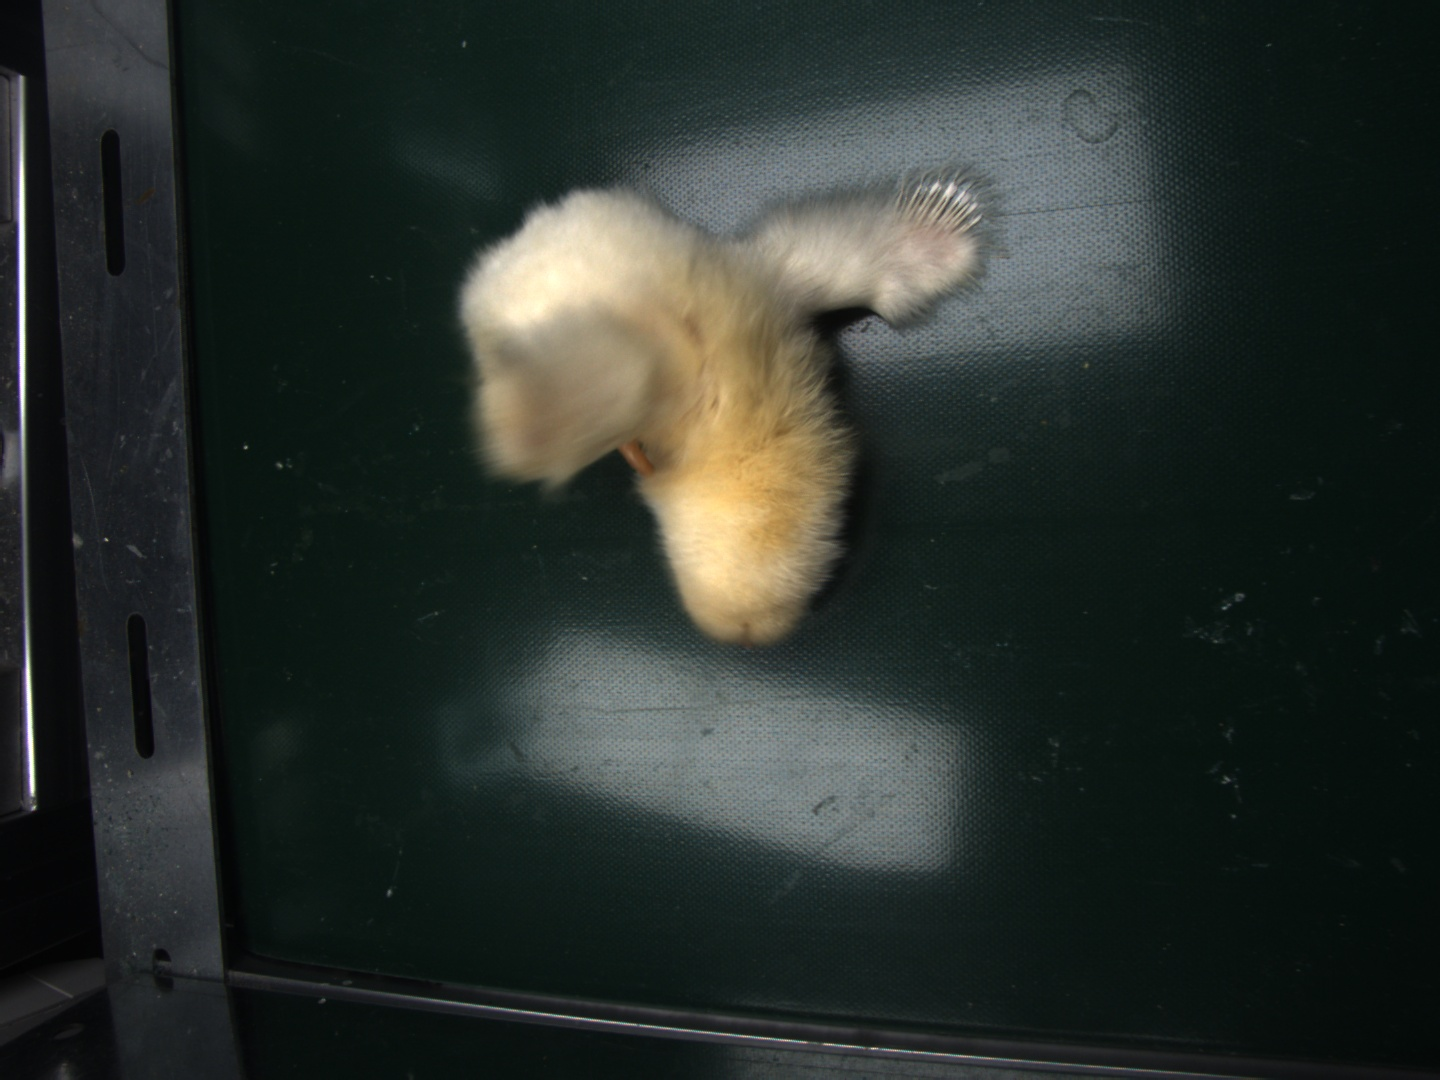male: (903, 180, 980, 233)
